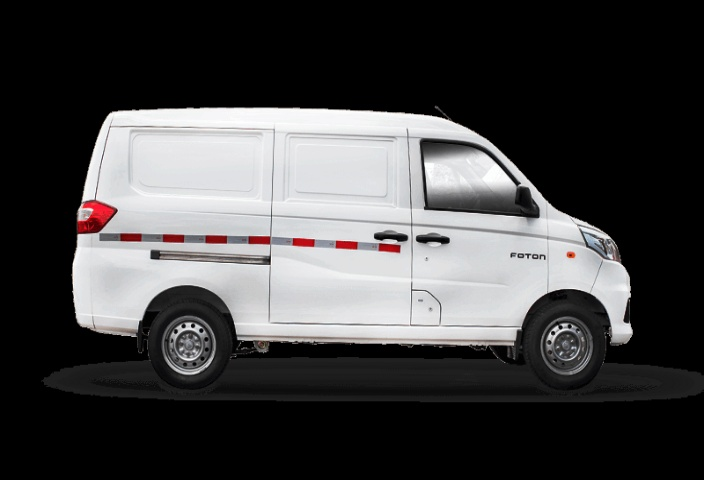van: (68, 87, 648, 394)
